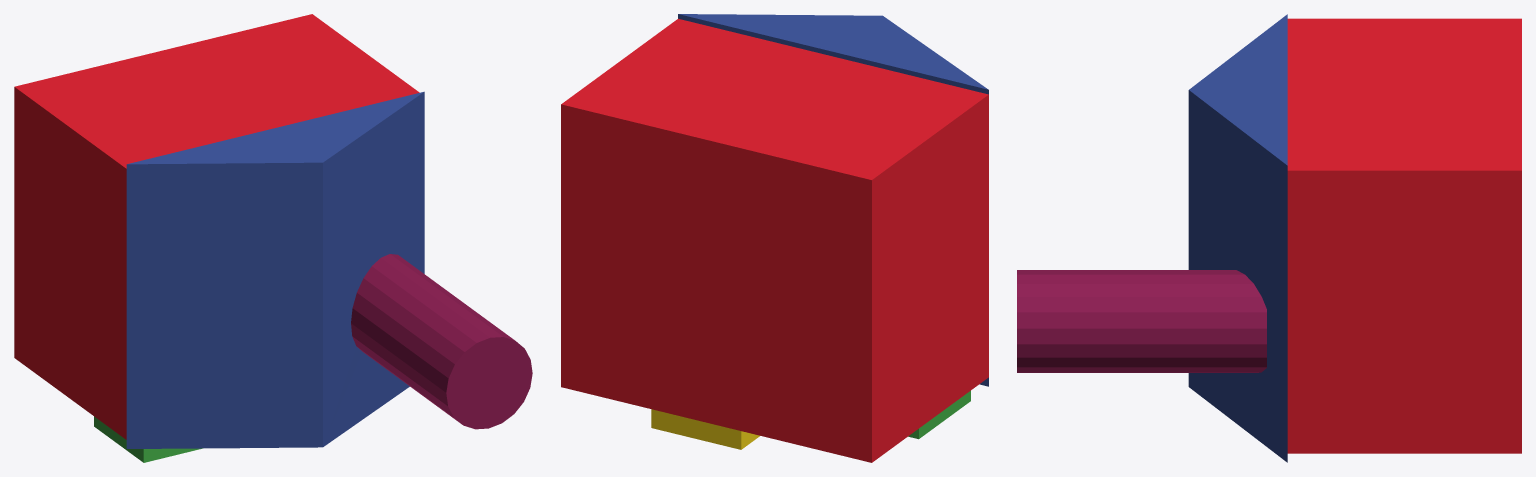
The model's file is tinker.obj.
The picture shows the model from 3 angles, left to right: view 1: azimuth 30°, elevation 25°; view 2: azimuth 150°, elevation 25°; view 3: azimuth 270°, elevation 25°; orthographic projection. The views are drawn at different scales.
Parts seen in each view (by area): view 1: group_0_3888547, group_0_15277357, group_0_9444435, group_0_4634441; view 2: group_0_15277357, group_0_3888547, group_0_16768282, group_0_4634441; view 3: group_0_15277357, group_0_3888547, group_0_9444435.
Part boxes in pixels (bbox=[...]): group_0_3888547: bbox=[126, 91, 424, 448]; group_0_15277357: bbox=[14, 14, 419, 439]; group_0_9444435: bbox=[351, 254, 532, 429]; group_0_4634441: bbox=[94, 416, 202, 462]; group_0_15277357: bbox=[561, 18, 988, 462]; group_0_3888547: bbox=[678, 14, 988, 386]; group_0_16768282: bbox=[651, 409, 760, 449]; group_0_4634441: bbox=[908, 390, 970, 439]; group_0_15277357: bbox=[1287, 18, 1521, 453]; group_0_3888547: bbox=[1188, 14, 1287, 462]; group_0_9444435: bbox=[1017, 270, 1266, 372].
Bounding box in the file's own units: 69 × 69 × 97.
